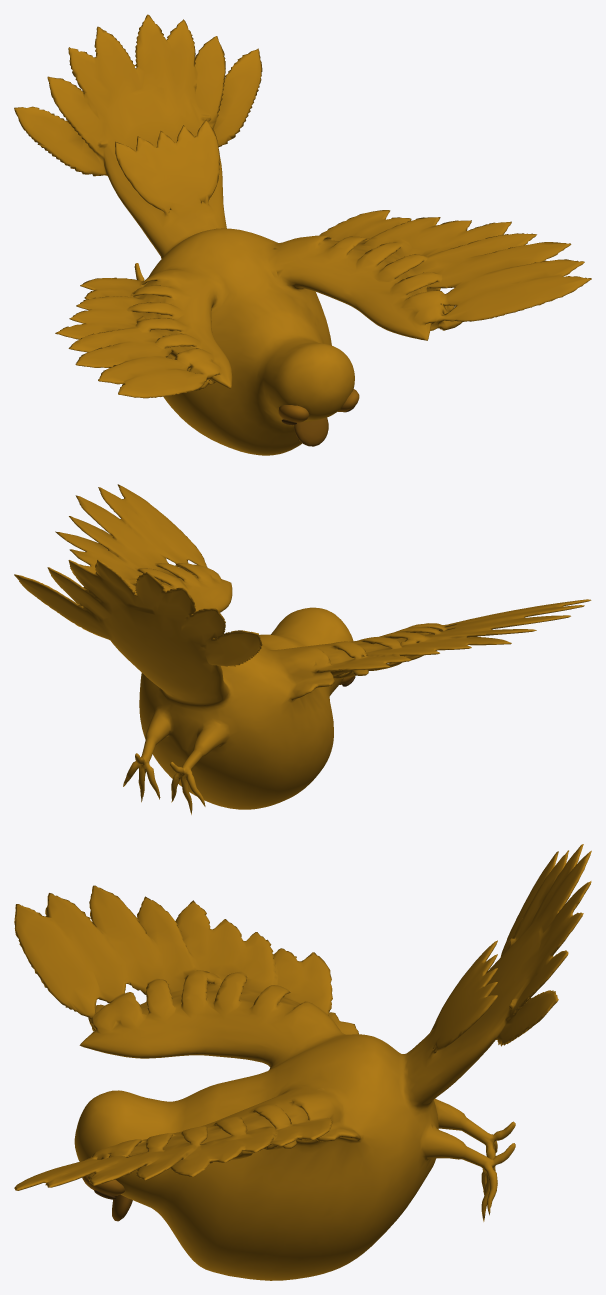
The model's file is effect.fbx.
3 views of the same model, one above another, from view 1: azimuth 30°, elevation 25°; view 2: azimuth 150°, elevation 25°; view 3: azimuth 270°, elevation 25° (orthographic). The views are drawn at different scales.
Visible parts, largest first — view 1: Outline_Continuous_body_wings_tail_legs, Outline_Small_closed_beak; view 2: Outline_Continuous_body_wings_tail_legs; view 3: Outline_Continuous_body_wings_tail_legs.
Boxes of the visible parts, bbox=[...] form: Outline_Continuous_body_wings_tail_legs: bbox=[14, 14, 591, 455]; Outline_Small_closed_beak: bbox=[294, 417, 328, 446]; Outline_Continuous_body_wings_tail_legs: bbox=[14, 484, 591, 814]; Outline_Continuous_body_wings_tail_legs: bbox=[14, 844, 591, 1280].
Bounding box in the file's own units: 11.99 × 7.55 × 9.77.
